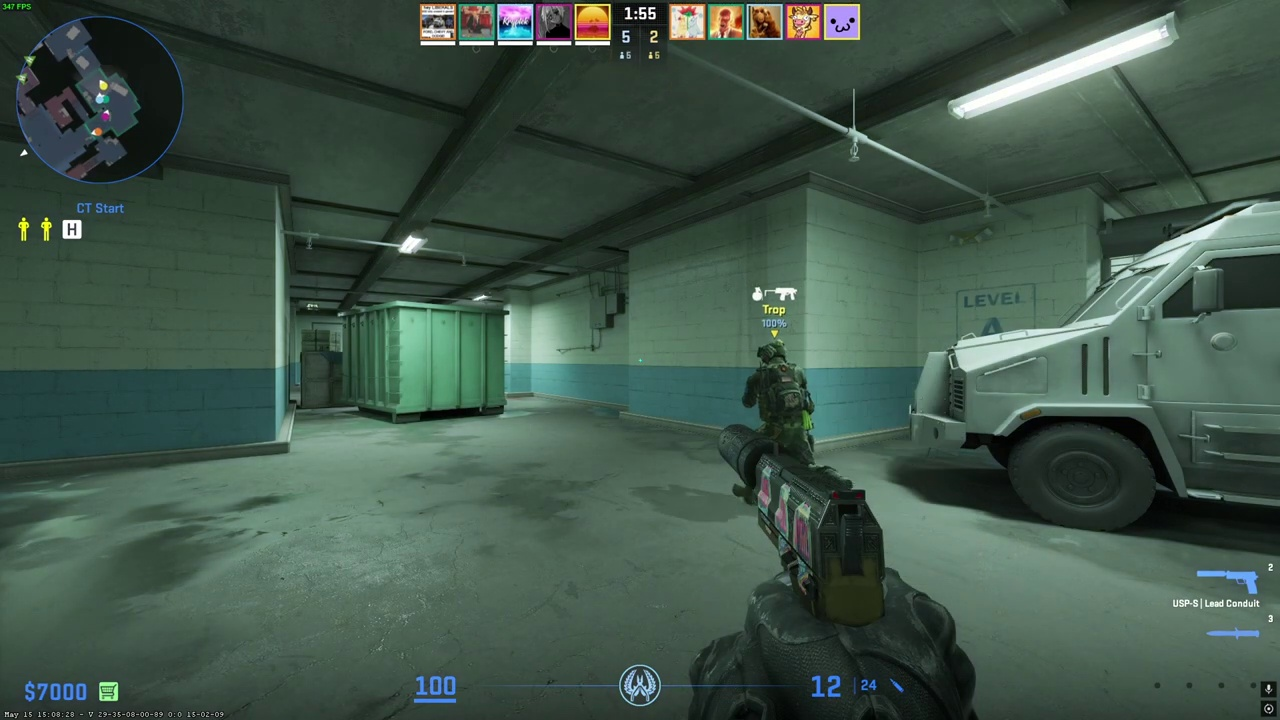CT: (748, 342, 815, 467)
